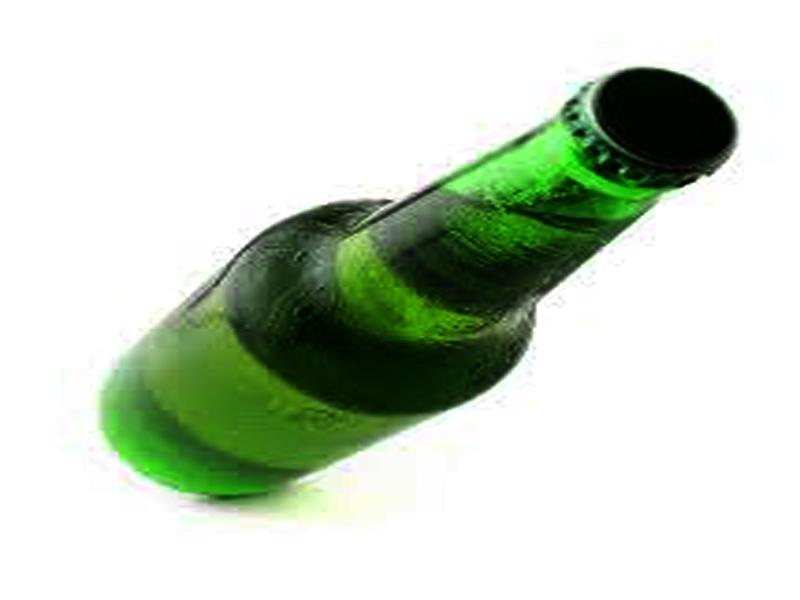Beer: (97, 69, 737, 500)
